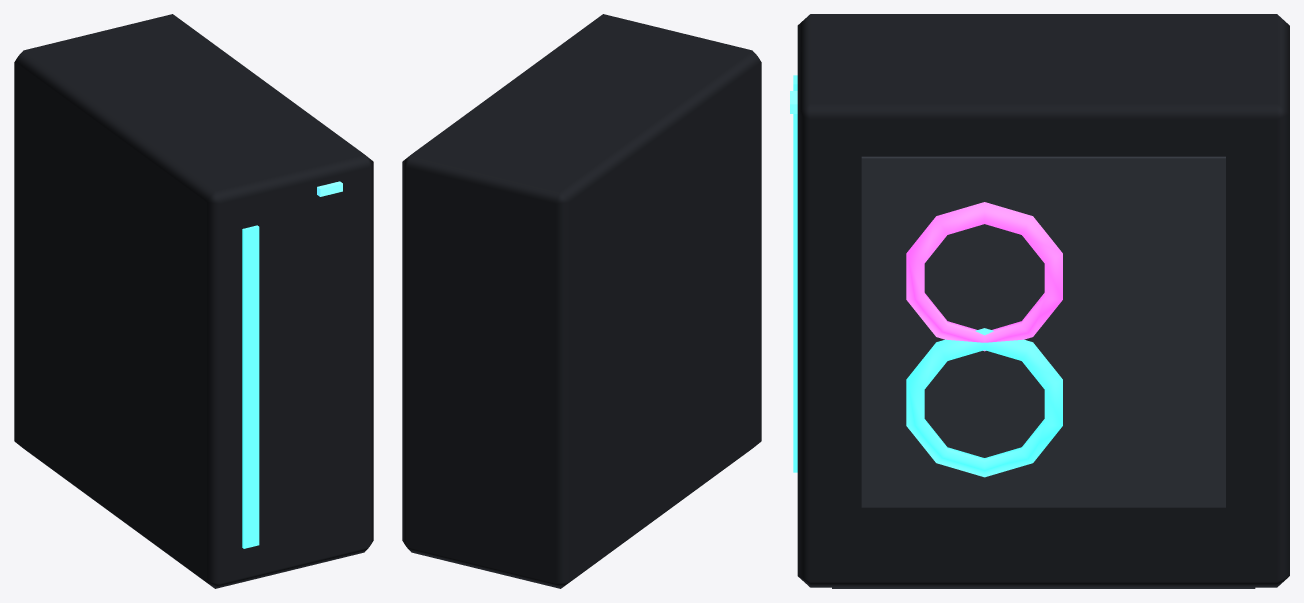
Rendered from station_processing_ausstattung_1_0.glb.
3 views of the same model, side by side, from view 1: azimuth 30°, elevation 25°; view 2: azimuth 150°, elevation 25°; view 3: azimuth 270°, elevation 25° (orthographic). The views are drawn at different scales.
Visible parts, largest first — view 1: station_processing_ausstattung_1_0; view 2: station_processing_ausstattung_1_0; view 3: station_processing_ausstattung_1_0.
Boxes of the visible parts, x1,y1,x2,y2 form: station_processing_ausstattung_1_0: [14, 14, 373, 588]; station_processing_ausstattung_1_0: [402, 14, 761, 588]; station_processing_ausstattung_1_0: [790, 14, 1289, 588].
Bounding box in the file's own units: 0.2384 × 0.506 × 0.467.
